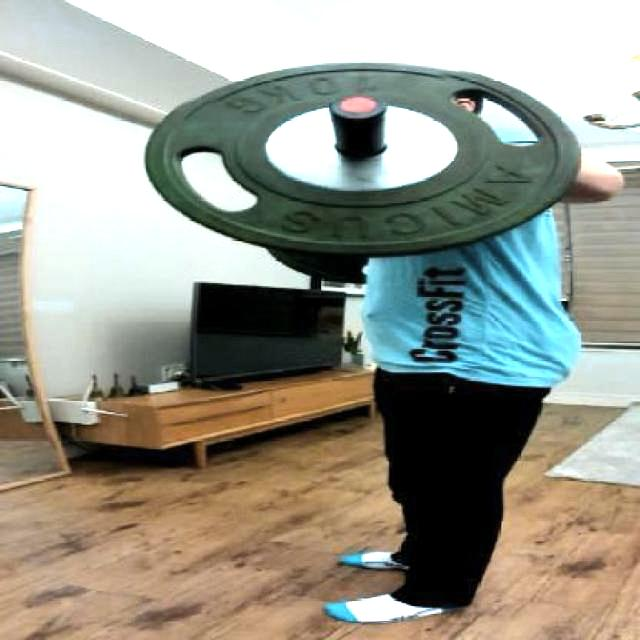barbell: (131, 60, 590, 260)
